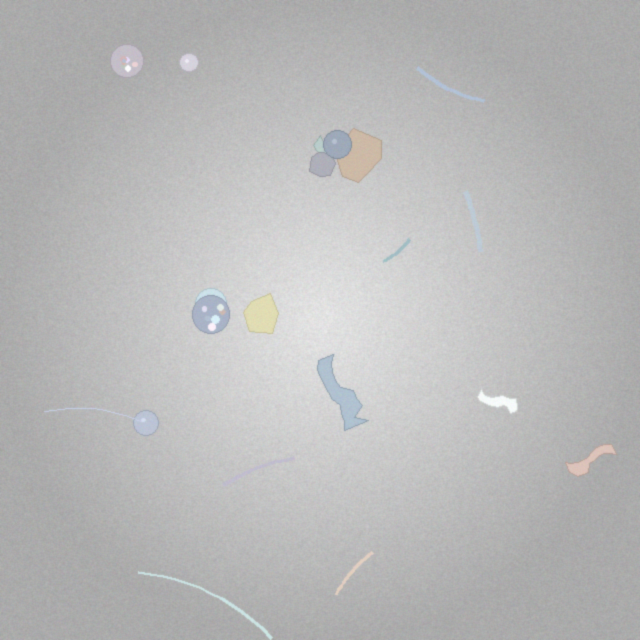fiber: (134, 569, 275, 639), (413, 63, 487, 105), (219, 455, 298, 490), (333, 549, 376, 598), (461, 187, 486, 256), (43, 406, 143, 423), (379, 236, 413, 266)
film: (318, 354, 369, 431), (565, 444, 616, 477), (314, 135, 358, 166), (477, 388, 517, 413)
foam: (192, 296, 229, 333), (110, 44, 143, 78)
fragment: (337, 128, 382, 183), (243, 293, 278, 334), (310, 153, 336, 176)
pellet: (195, 288, 226, 319), (324, 130, 352, 158), (134, 410, 159, 435), (180, 54, 198, 72)
